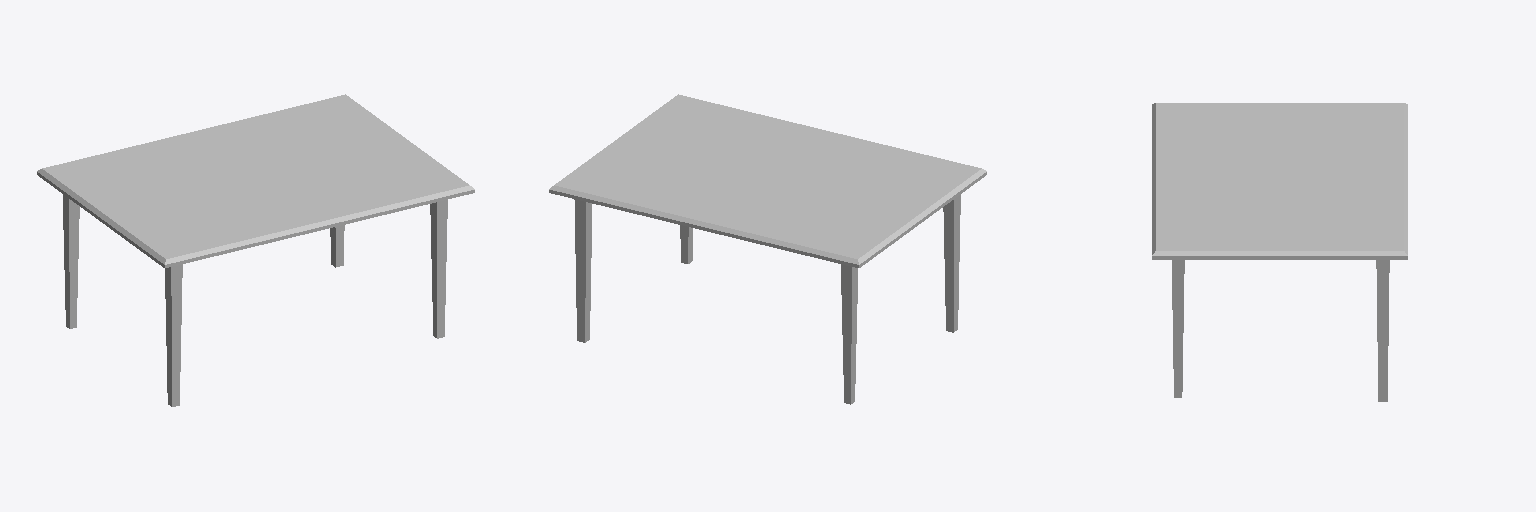
The model's file is Table Remodel.obj.
3 views of the same model, side by side, from view 1: azimuth 30°, elevation 25°; view 2: azimuth 150°, elevation 25°; view 3: azimuth 270°, elevation 25° (orthographic).
Visible parts, largest first — view 1: Table, Table Leg2, Table Leg3, Table Leg0, Table Leg1; view 2: Table, Table Leg1, Table Leg0, Table Leg2; view 3: Table, Table Leg1, Table Leg3.
Boxes of the visible parts, x1,y1,x2,y2 form: Table: [37, 94, 474, 267]; Table Leg2: [165, 264, 182, 406]; Table Leg3: [430, 200, 447, 338]; Table Leg0: [63, 194, 79, 328]; Table Leg1: [330, 225, 344, 267]; Table: [549, 94, 986, 267]; Table Leg1: [574, 199, 591, 342]; Table Leg0: [841, 264, 857, 404]; Table Leg2: [943, 194, 960, 332]; Table: [1152, 103, 1407, 259]; Table Leg1: [1376, 260, 1389, 401]; Table Leg3: [1172, 260, 1184, 397].
Bounding box in the file's own units: 14 × 6.82 × 10.